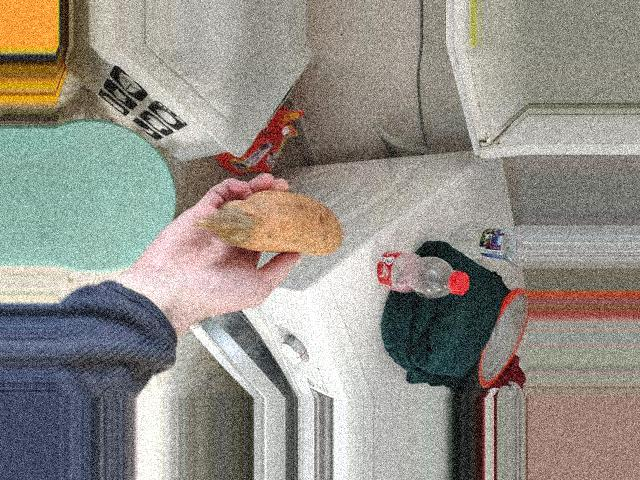sweet_potato: (222, 196, 374, 252)
